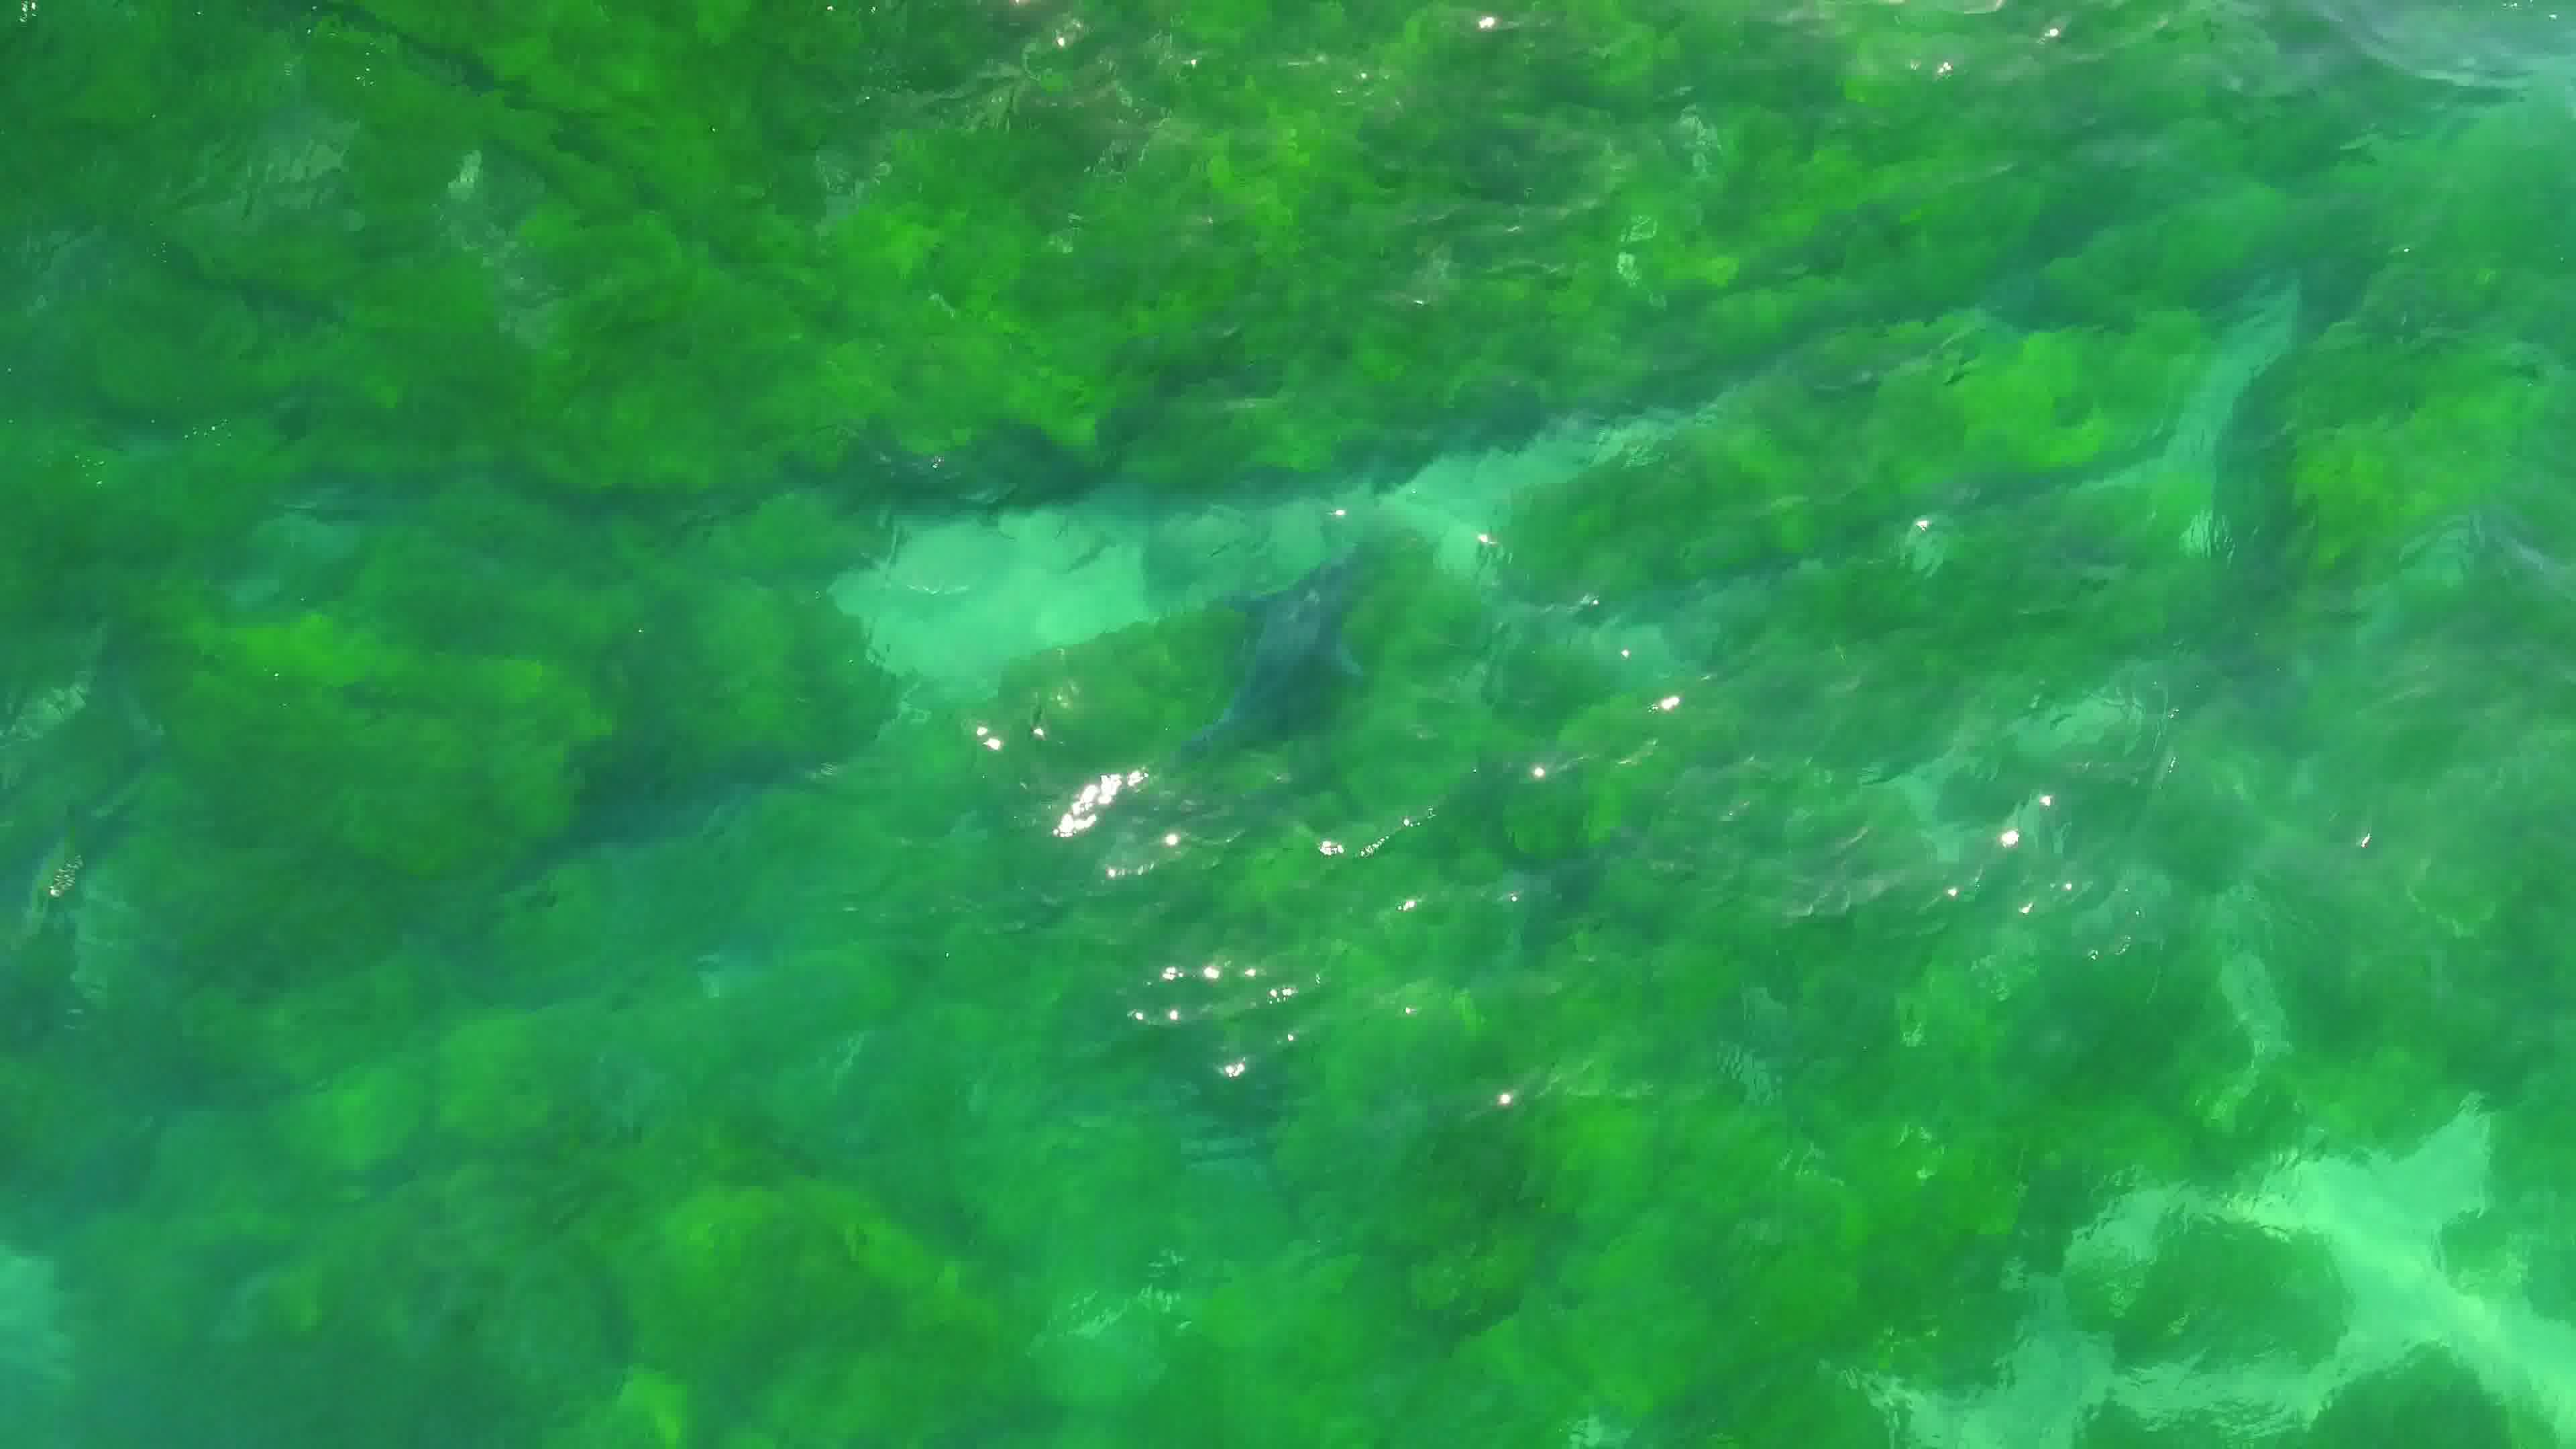shark: (1161, 531, 1382, 775)
